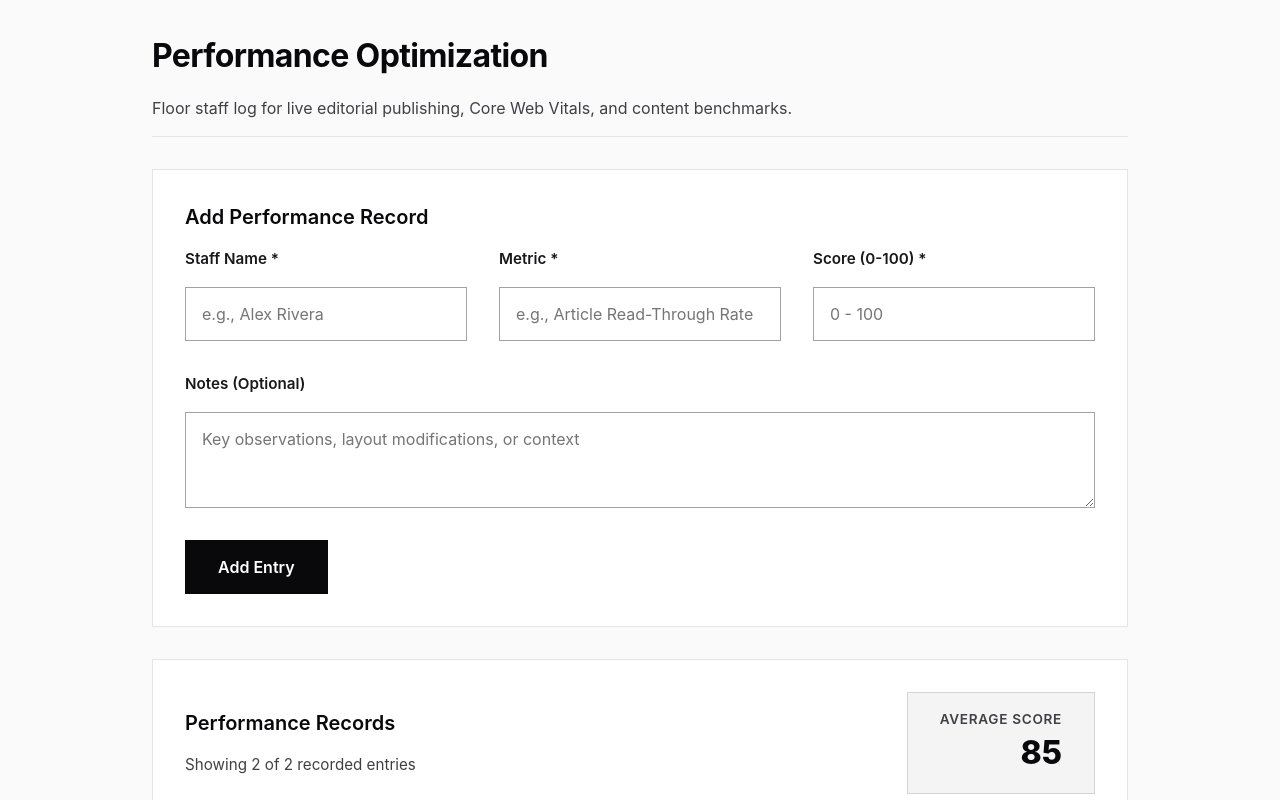
Test: PerformanceOptimization Component › 6. Security (Sanitization against XSS) › sanitizes <script> payloads BEFORE going into state/input value
The width and height of the screenshot is (1280, 800).
Click the field labelled "Staff Name *" at (326, 314), box x1=185 y1=287 x2=467 y2=341
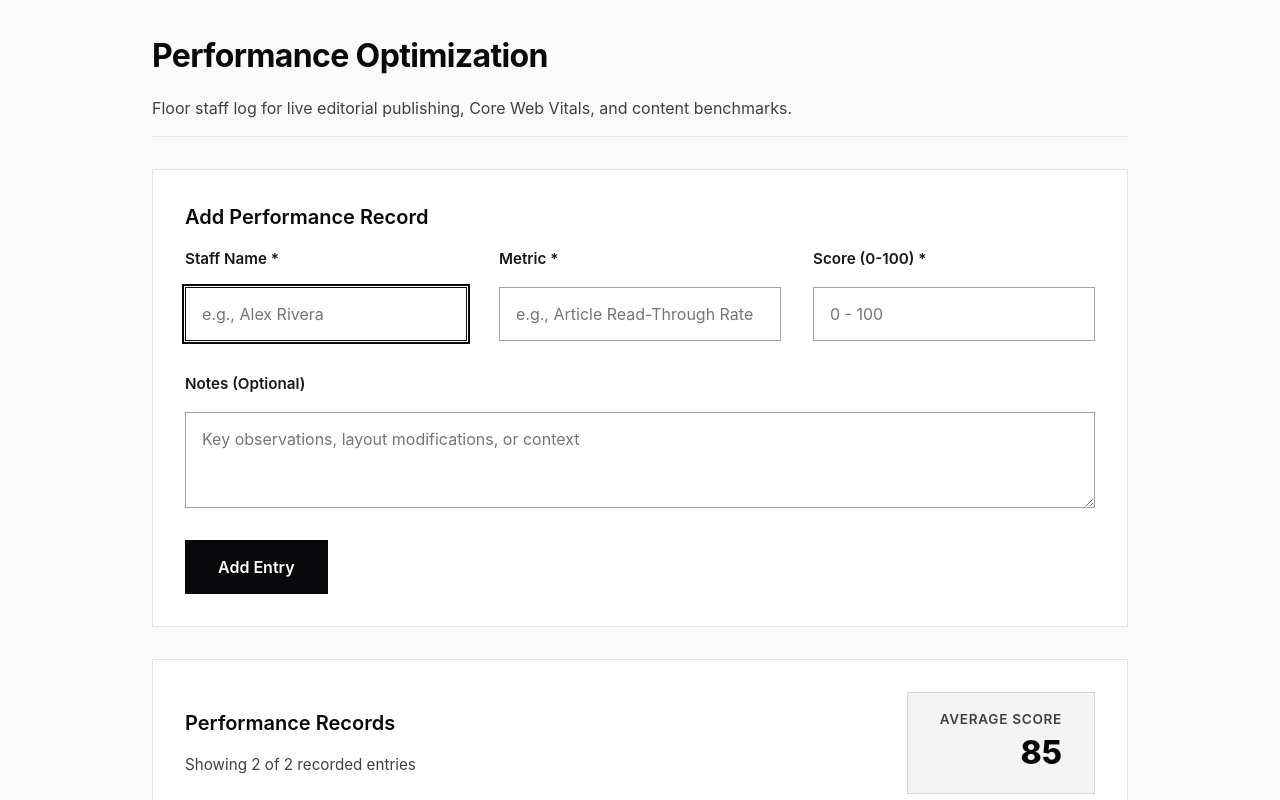
Type keys "<script>alert(\"xss\")</script>Jane"
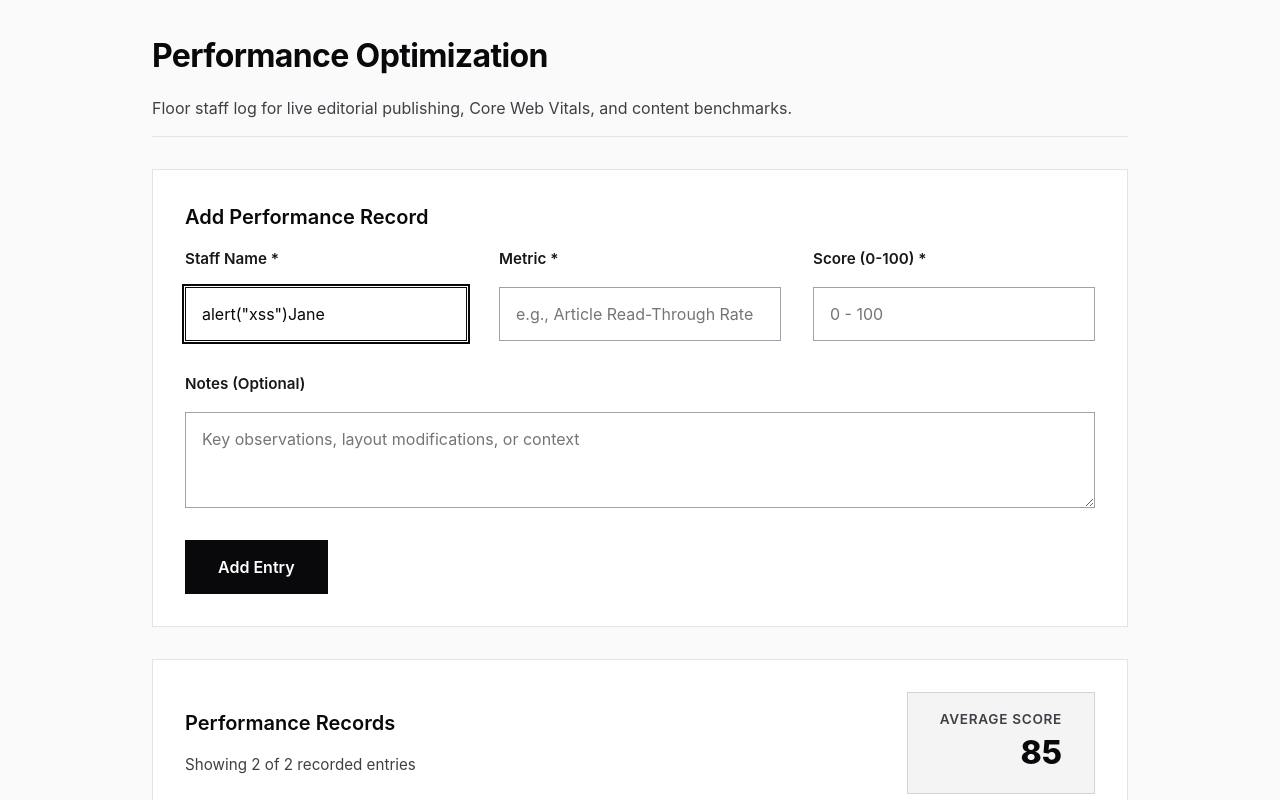
Check: the field labelled "Staff Name *" holds "alert(\"xss\")Jane", box x1=185 y1=287 x2=467 y2=341
